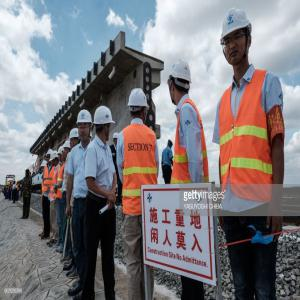white: (221, 9, 253, 66), (170, 58, 192, 104), (95, 107, 113, 144), (130, 88, 148, 123), (78, 110, 94, 143), (70, 129, 80, 148), (52, 152, 59, 167), (65, 141, 71, 158), (58, 147, 64, 162), (47, 150, 53, 164), (114, 134, 120, 147), (42, 161, 48, 173)
